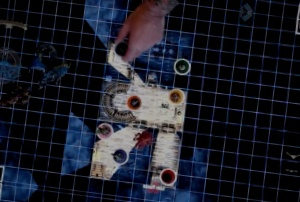blue: (113, 39, 131, 56)
green: (172, 56, 192, 76)
orange: (123, 92, 144, 110)
pink: (95, 120, 115, 140)
red: (158, 165, 179, 187)
violet: (111, 146, 132, 166)
yellow: (168, 85, 187, 106)
